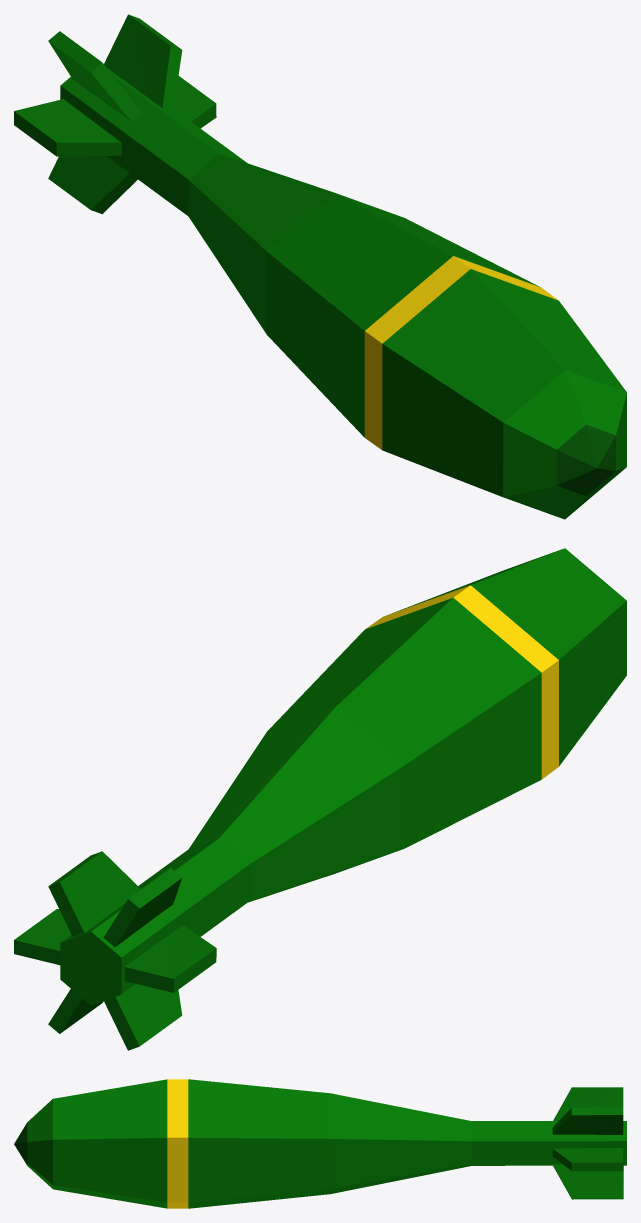
File: SM_Prop_Mortar_Shell_01.fbx
The picture shows the model from 3 angles, top to bottom: view 1: azimuth 30°, elevation 25°; view 2: azimuth 150°, elevation 25°; view 3: azimuth 270°, elevation 25°; orthographic projection. The views are drawn at different scales.
Visible parts, largest first — view 1: SM_Prop_Mortar_Shell_01; view 2: SM_Prop_Mortar_Shell_01; view 3: SM_Prop_Mortar_Shell_01.
Part boxes in pixels (bbox=[...]): SM_Prop_Mortar_Shell_01: bbox=[14, 14, 626, 519]; SM_Prop_Mortar_Shell_01: bbox=[14, 548, 626, 1050]; SM_Prop_Mortar_Shell_01: bbox=[14, 1079, 626, 1208].
Bounding box in the file's own units: 9.59 × 11.07 × 47.49.
